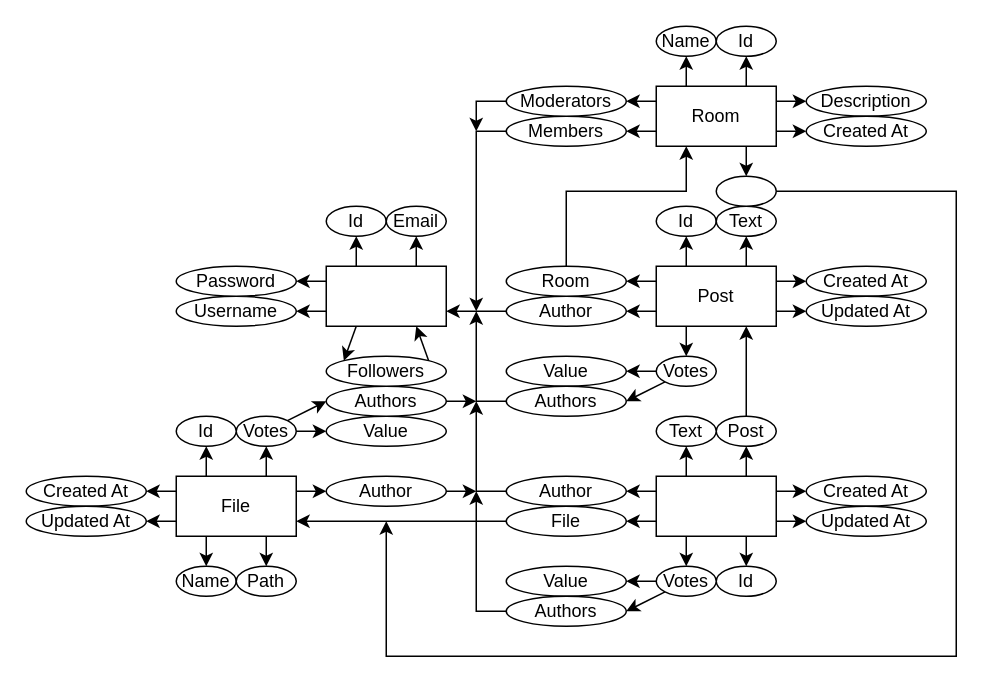
This 995x695 diagram has some shape labels left out. Each missing label, with the centre of its shape:
"Comment" goes at point (715, 505).
"Files" goes at point (745, 190).
"User" goes at point (385, 295).
